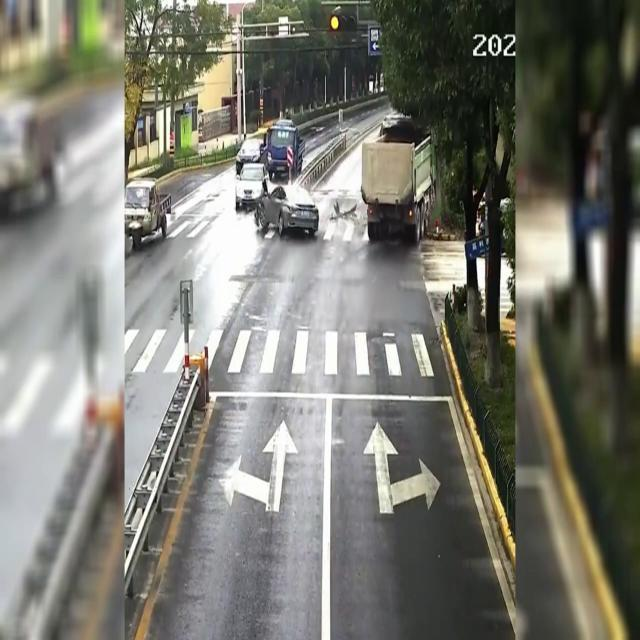accident: (258, 185, 318, 233)
non-accident: (232, 122, 302, 210)
